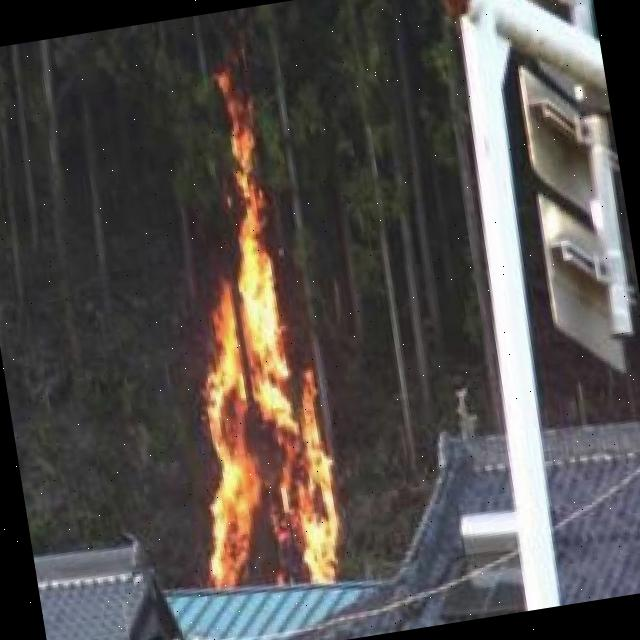fire: (136, 86, 360, 606)
